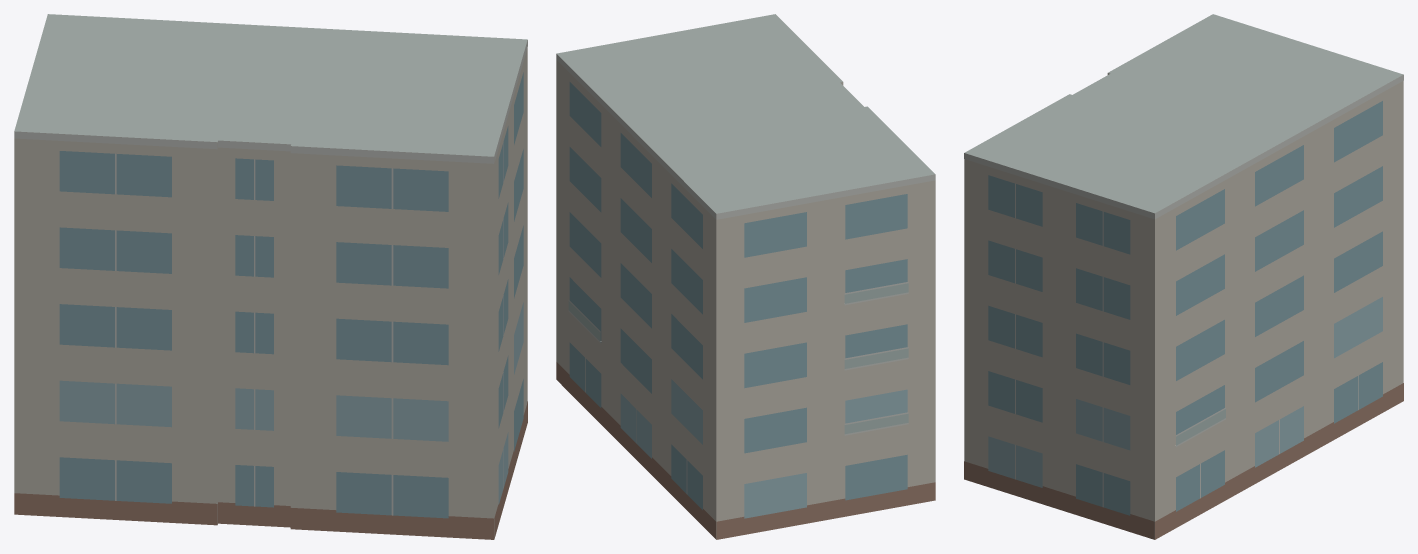
Rendered from survey-upis-32626819.glb.
The picture shows the model from 3 angles, left to right: view 1: azimuth 30°, elevation 25°; view 2: azimuth 150°, elevation 25°; view 3: azimuth 270°, elevation 25°; orthographic projection. The views are drawn at different scales.
Visible parts, largest first — view 1: survey-upis-32626819.tmp; view 2: survey-upis-32626819.tmp; view 3: survey-upis-32626819.tmp.
Boxes of the visible parts, bbox=[...] form: survey-upis-32626819.tmp: bbox=[14, 14, 527, 539]; survey-upis-32626819.tmp: bbox=[556, 14, 935, 539]; survey-upis-32626819.tmp: bbox=[964, 14, 1403, 539].
Size of the model in its own units: 17.3 by 13.2 by 16.11.
